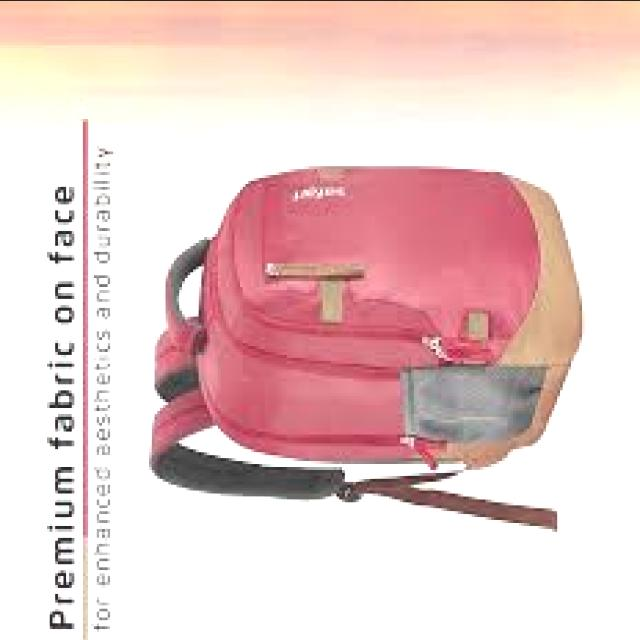backpack: (147, 167, 583, 535)
